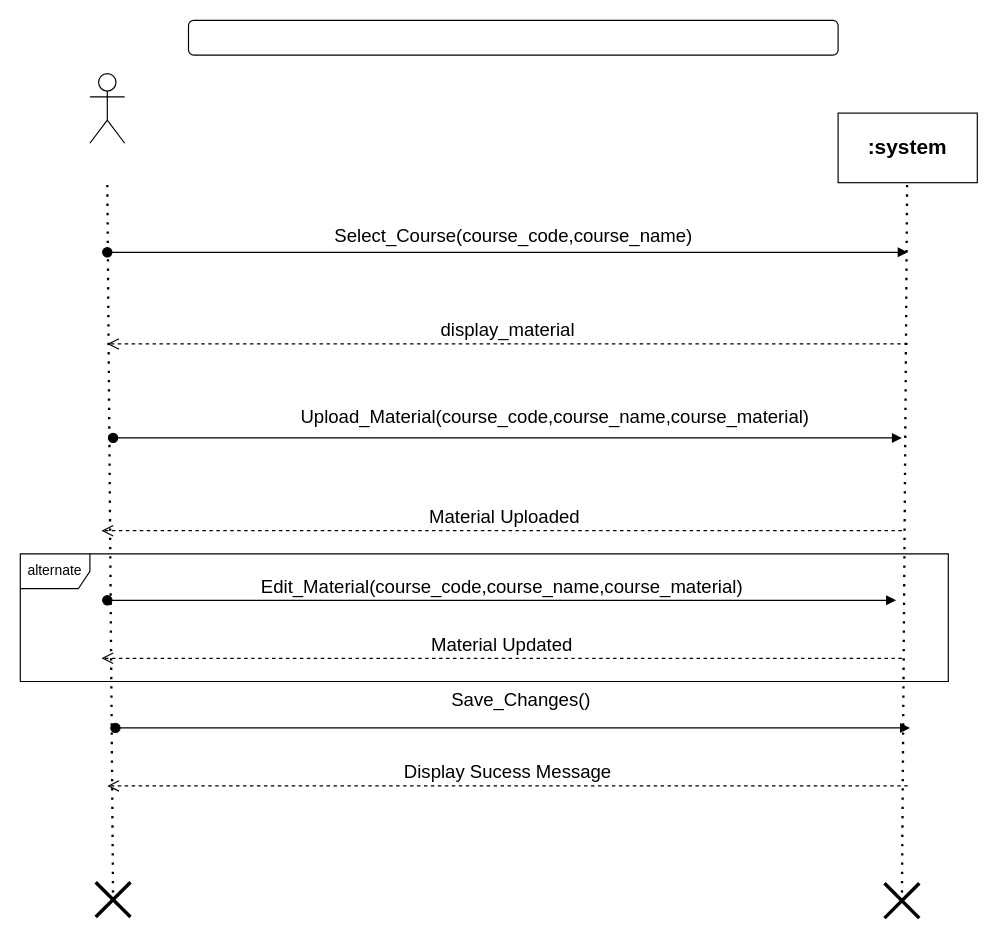
Some shapes in this 998 by 940 pixel diagram are drawn without their labels. Each missing label, with the centre of its shape:
"Admin" belongs at (x=107, y=107).
"MANAGE COURSE MATERIAL - SSD" belongs at (x=512, y=37).
